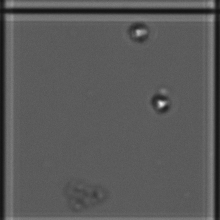Dead Cell: (59, 177, 110, 210)
Living Cell: (127, 20, 152, 44), (148, 91, 173, 115)
